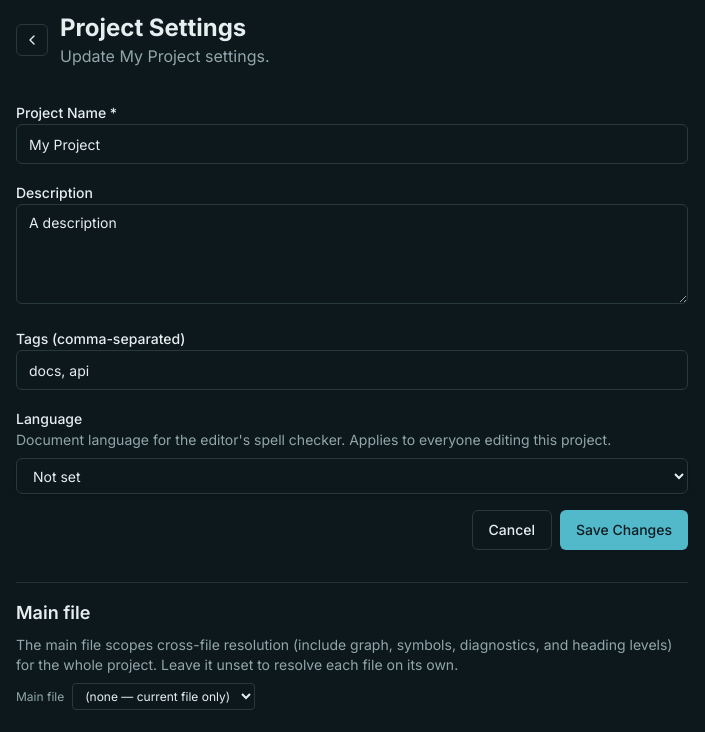
Test: SettingsClient — saving › shows the API error message when the update fails
Click the button "Save Changes".
click(624, 530)  # box [560,510,688,550]
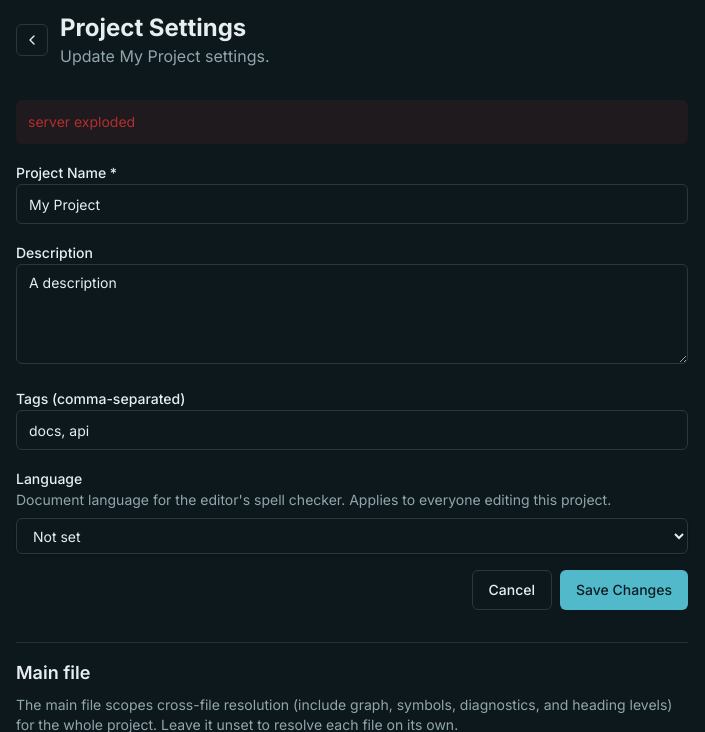
Check: the text "server exploded" is shown, box [16,100,688,144]
